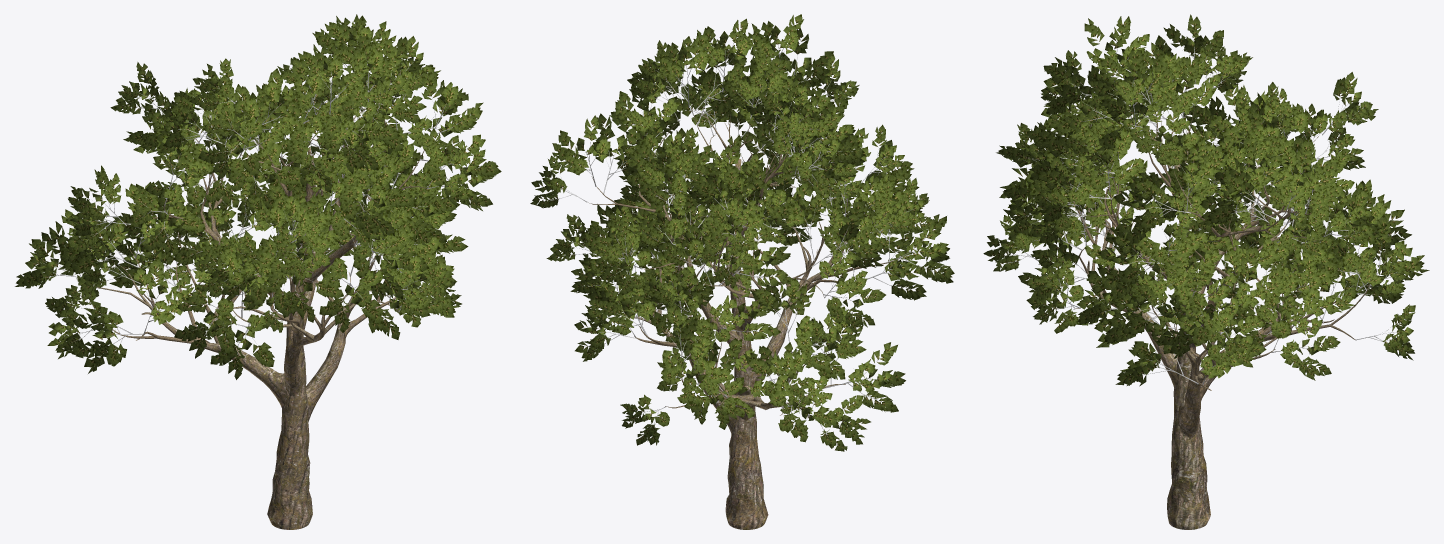
The model's file is QuickMapleOptimized.obj.
The picture shows the model from 3 angles, left to right: view 1: azimuth 30°, elevation 25°; view 2: azimuth 150°, elevation 25°; view 3: azimuth 270°, elevation 25°; orthographic projection. The views are drawn at different scales.
Visible parts, largest first — view 1: tree, tree.001, tree.002; view 2: tree, tree.001, tree.002; view 3: tree, tree.001, tree.002.
Boxes of the visible parts, bbox=[...] form: tree: bbox=[15, 14, 501, 379]; tree.001: bbox=[76, 108, 427, 529]; tree.002: bbox=[40, 36, 470, 365]; tree: bbox=[530, 14, 954, 451]; tree.001: bbox=[588, 103, 900, 529]; tree.002: bbox=[548, 38, 937, 444]; tree: bbox=[983, 14, 1429, 386]; tree.001: bbox=[1049, 105, 1370, 529]; tree.002: bbox=[1005, 43, 1398, 384].
Size of the model in its own units: 112 by 144 by 117.
